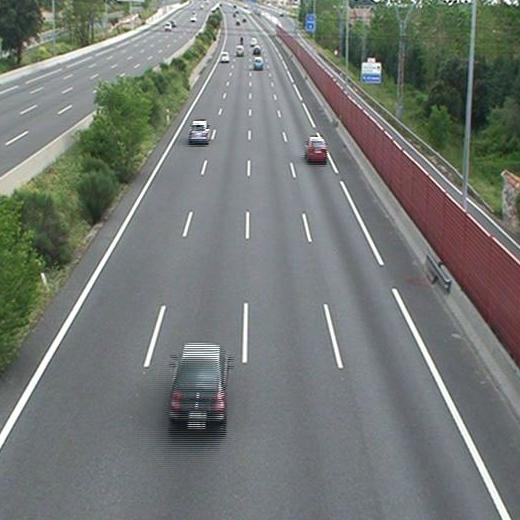car: (171, 342, 226, 425), (305, 135, 325, 160), (189, 119, 208, 140), (253, 56, 264, 70), (235, 45, 245, 58), (219, 51, 229, 63), (252, 45, 262, 54)
